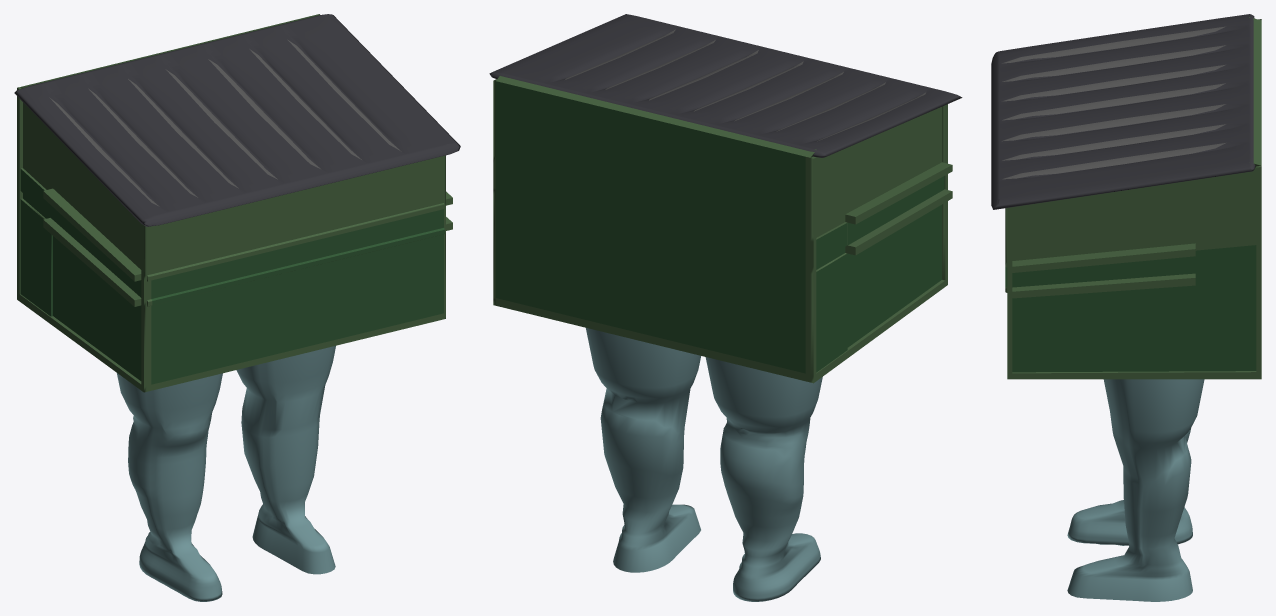
Rendered from DUMP.fbx.
3 views of the same model, side by side, from view 1: azimuth 30°, elevation 25°; view 2: azimuth 150°, elevation 25°; view 3: azimuth 270°, elevation 25° (orthographic). The views are drawn at different scales.
Visible parts, largest first — view 1: dumpster1:pCube9polySurface12, rightLegDUMP, LeftLegDUMP; view 2: dumpster1:pCube9polySurface12, rightLegDUMP, LeftLegDUMP; view 3: dumpster1:pCube9polySurface12, LeftLegDUMP, rightLegDUMP.
Boxes of the visible parts, bbox=[...] form: dumpster1:pCube9polySurface12: bbox=[14, 14, 460, 392]; rightLegDUMP: bbox=[117, 373, 222, 601]; LeftLegDUMP: bbox=[236, 346, 335, 574]; dumpster1:pCube9polySurface12: bbox=[489, 14, 962, 383]; rightLegDUMP: bbox=[705, 357, 822, 601]; LeftLegDUMP: bbox=[586, 328, 700, 572]; dumpster1:pCube9polySurface12: bbox=[991, 14, 1261, 379]; LeftLegDUMP: bbox=[1067, 379, 1204, 601]; rightLegDUMP: bbox=[1067, 428, 1192, 545].
Size of the model in its own units: 16.42 by 23.24 by 11.98.
